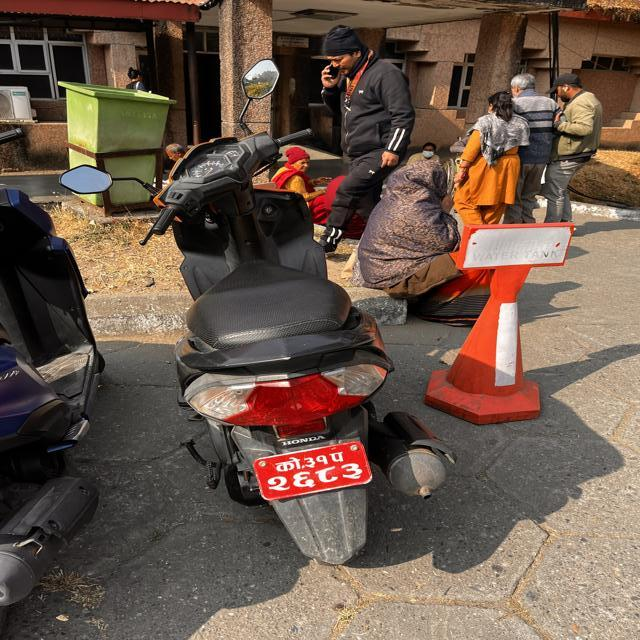license_plate: (226, 437, 391, 506)
